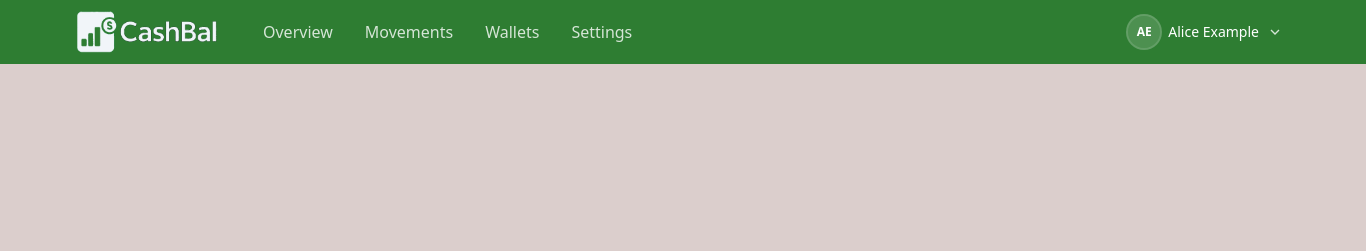
LayoutComponent › shows the authenticated account instead of a placeholder photo and unused buttons
The width and height of the screenshot is (1366, 251).
Click the button "AE Alice Example": (1206, 32) [1120, 10, 1291, 54]
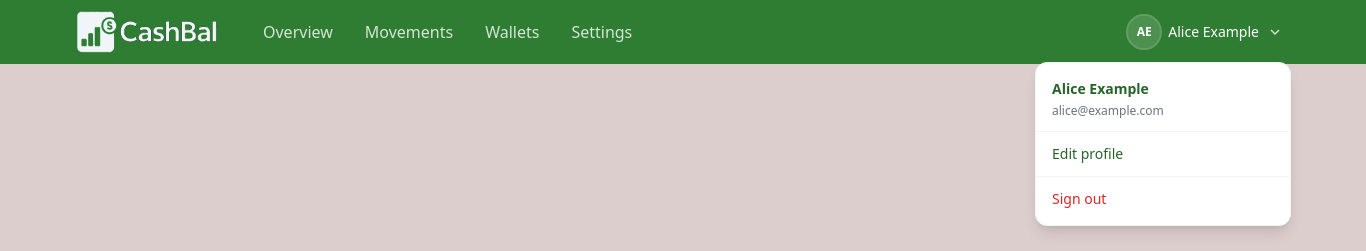
Expected: the element showing "Alice Example alice@example.com Edit profile Sign out" is shown, [1035, 62, 1291, 226]
